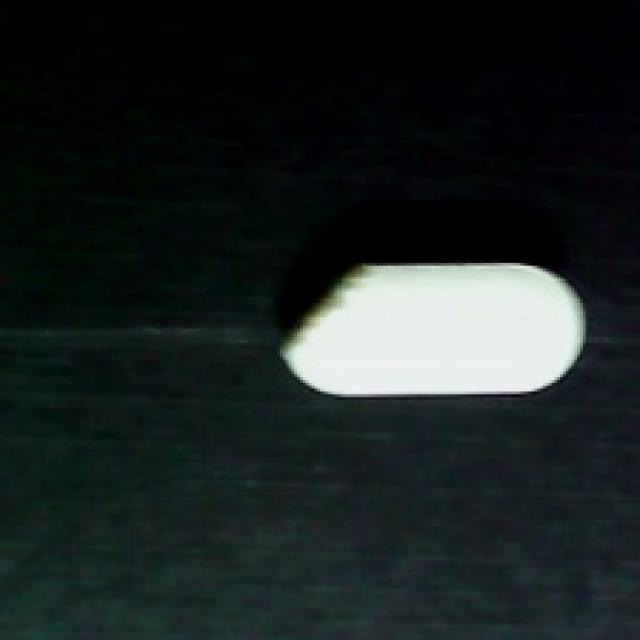defected: (269, 257, 589, 409)
